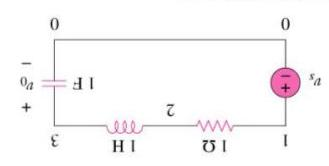inductor: (97, 111, 150, 135)
